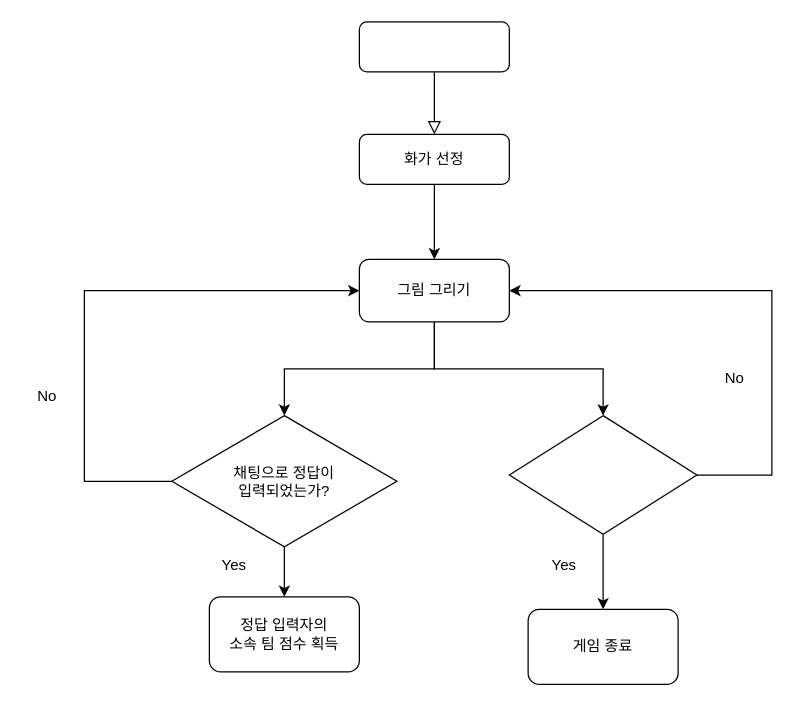
Image size: 804x706. Some labels were removed from this diagram. The box of each missing label's shape, as (x1, y1, x2, y2) in pixels:
게임 시작: (358, 21, 509, 72)
시간 초과인가?: (508, 414, 697, 534)
